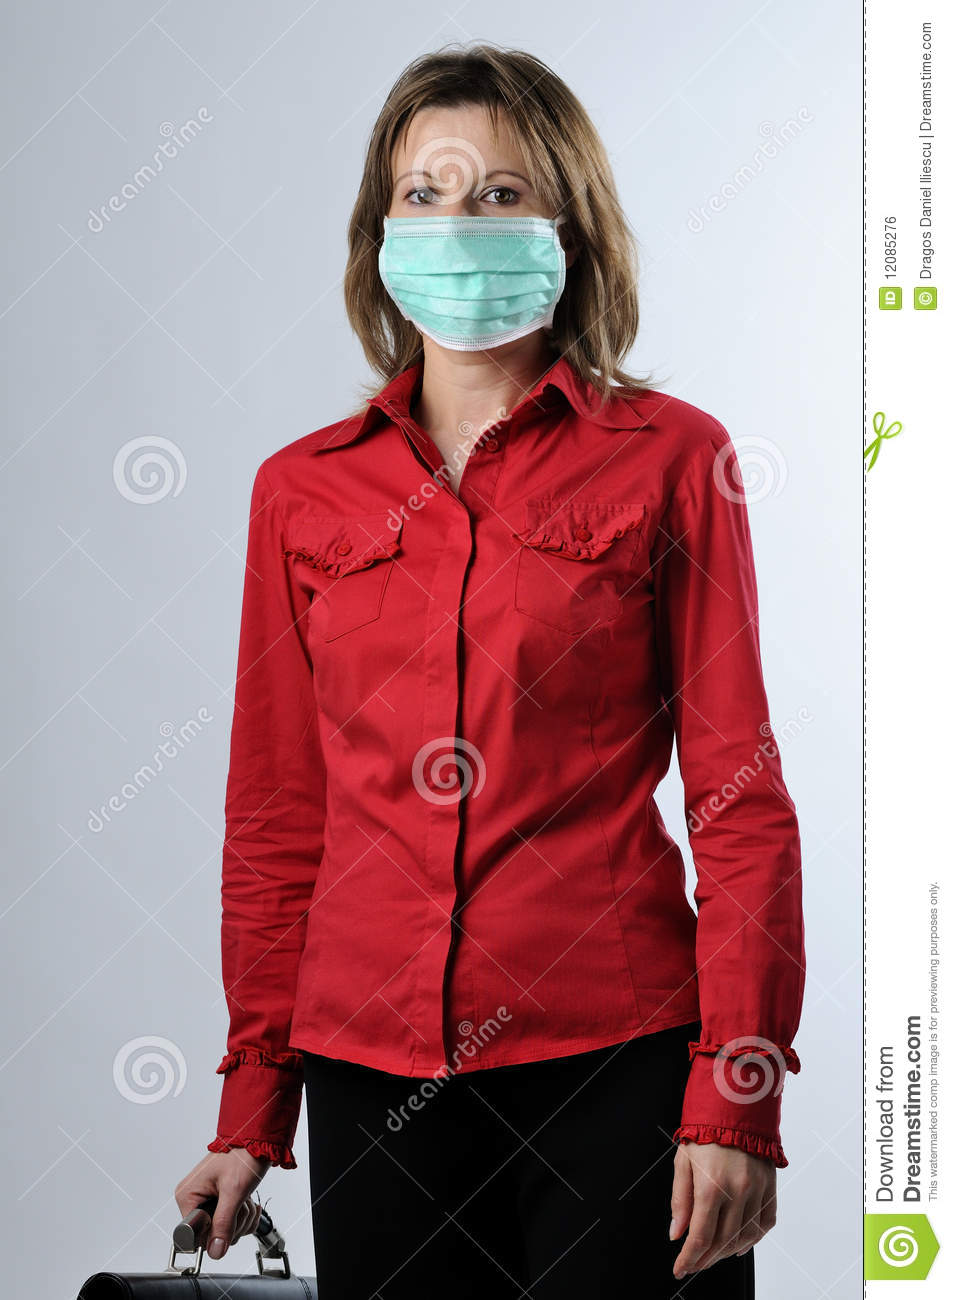mask: (381, 214, 567, 358)
